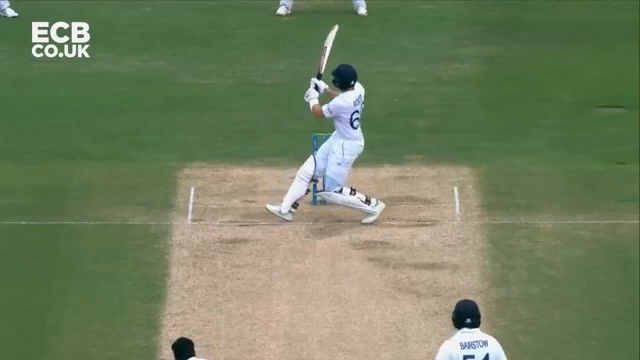batsman: (264, 23, 387, 227)
